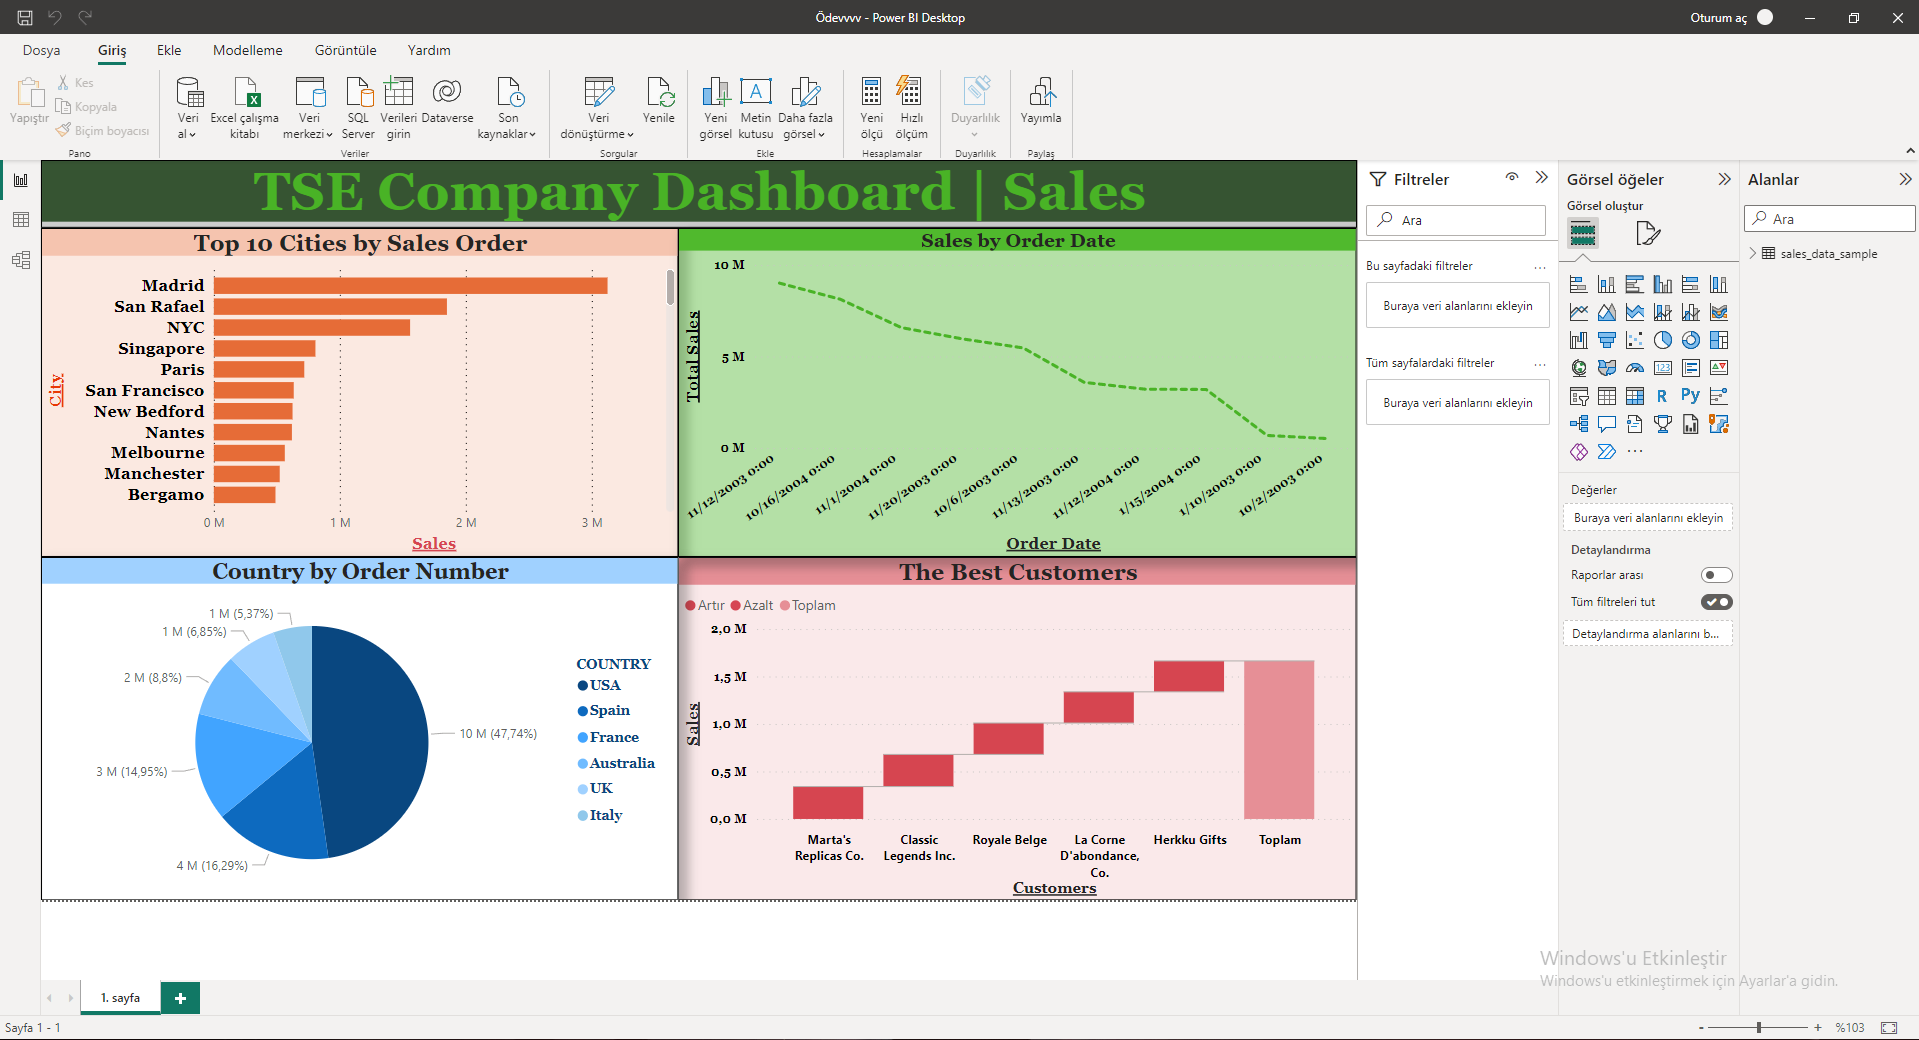

Layout of this report page (visuals, bound fields, positions):
{"tool":"powerbi","page":{"name":"1. sayfa","canvas":[1280,720],"ordinal":0},"visuals":[{"type":"barChart","title":"Top 10 Cities by Sales Order","fields":{"Category":["sales_data_sample.CITY"],"Y":["Sum(sales_data_sample.ORDERNUMBER)"]},"box":[0,66.1,619.6,320],"z":0},{"type":"waterfallChart","title":"The Best Customers","fields":{"Category":["sales_data_sample.CUSTOMERNAME"],"Y":["Avg(sales_data_sample.SALES)"]},"box":[619.6,386.1,660.4,333.6],"z":1000},{"type":"textbox","box":[0,386,620,334],"z":2000},{"type":"textbox","title":"TSE Company Dashboard | Sales","box":[0,0,1280,66.1],"z":3000},{"type":"lineChart","title":"Sales by Order Date","fields":{"Category":["sales_data_sample.ORDERDATE"],"Y":["Sum(sales_data_sample.SALES)"]},"box":[619.6,66.1,660.4,320],"z":4000},{"type":"pieChart","title":"Country by Order Number","fields":{"Category":["sales_data_sample.COUNTRY"],"Y":["Sum(sales_data_sample.ORDERNUMBER)"]},"box":[0,386.1,619.6,333.6],"z":5000}]}

Visuals, with their boxes on the page's 1280x720 design canvas (x1, y1, x2, y2). These are canvas units, not pixel positions in the 1919x1040 screenshot, which may show the page scaled, cropped or inside an application window:
"Top 10 Cities by Sales Order" barChart: (x1=0, y1=66, x2=620, y2=386)
"The Best Customers" waterfallChart: (x1=620, y1=386, x2=1280, y2=720)
textbox: (x1=0, y1=386, x2=620, y2=720)
"TSE Company Dashboard | Sales" textbox: (x1=0, y1=0, x2=1280, y2=66)
"Sales by Order Date" lineChart: (x1=620, y1=66, x2=1280, y2=386)
"Country by Order Number" pieChart: (x1=0, y1=386, x2=620, y2=720)
